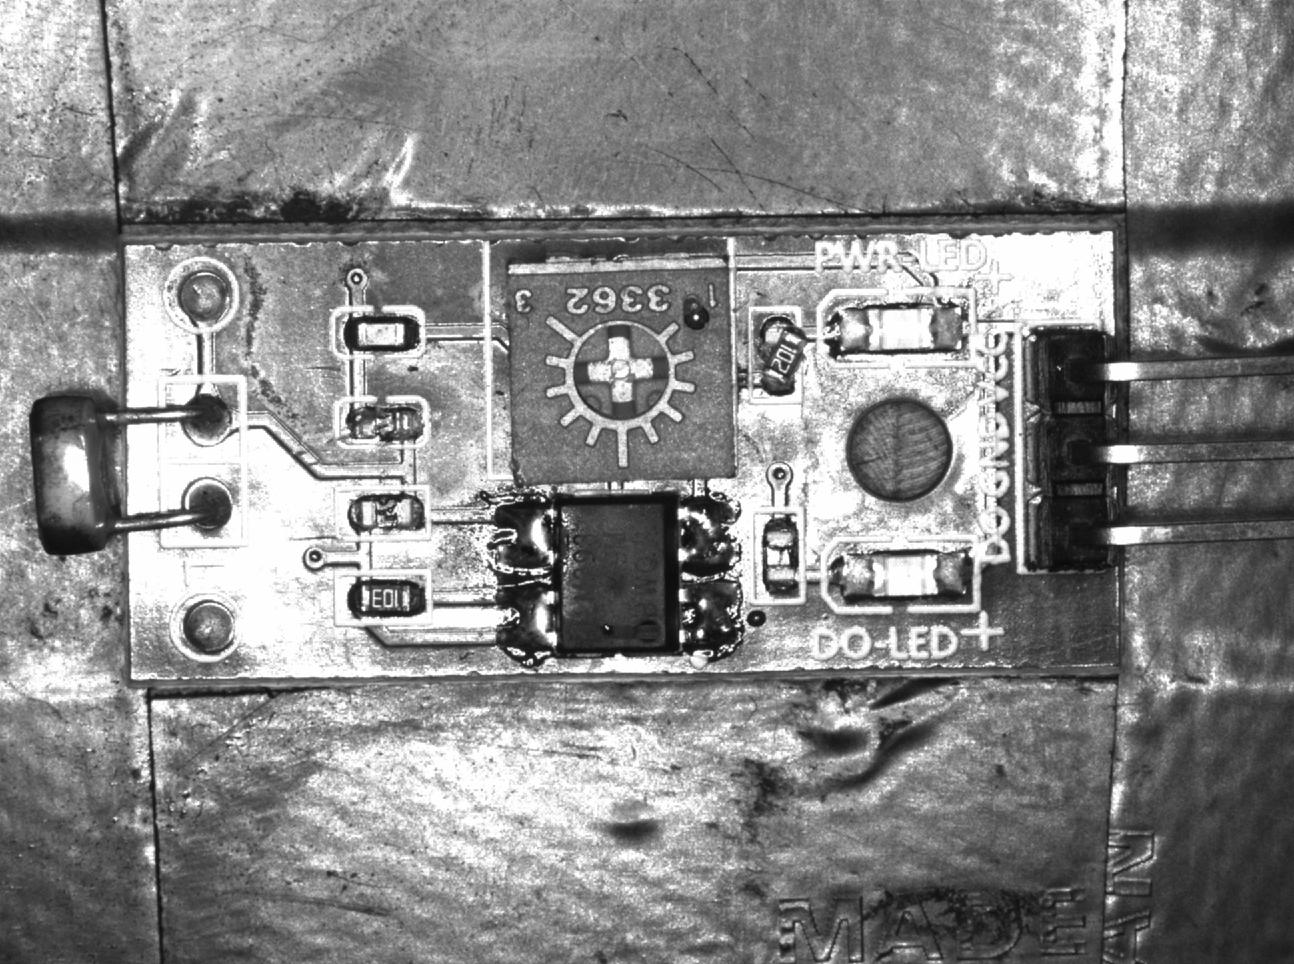bridge: (491, 498, 555, 576), (680, 490, 742, 569), (683, 579, 746, 651), (492, 585, 557, 654)
lifted: (749, 307, 804, 399)
miss: (750, 507, 805, 604), (334, 486, 433, 539), (336, 398, 429, 441)
ok: (335, 573, 434, 628), (330, 305, 426, 359)
